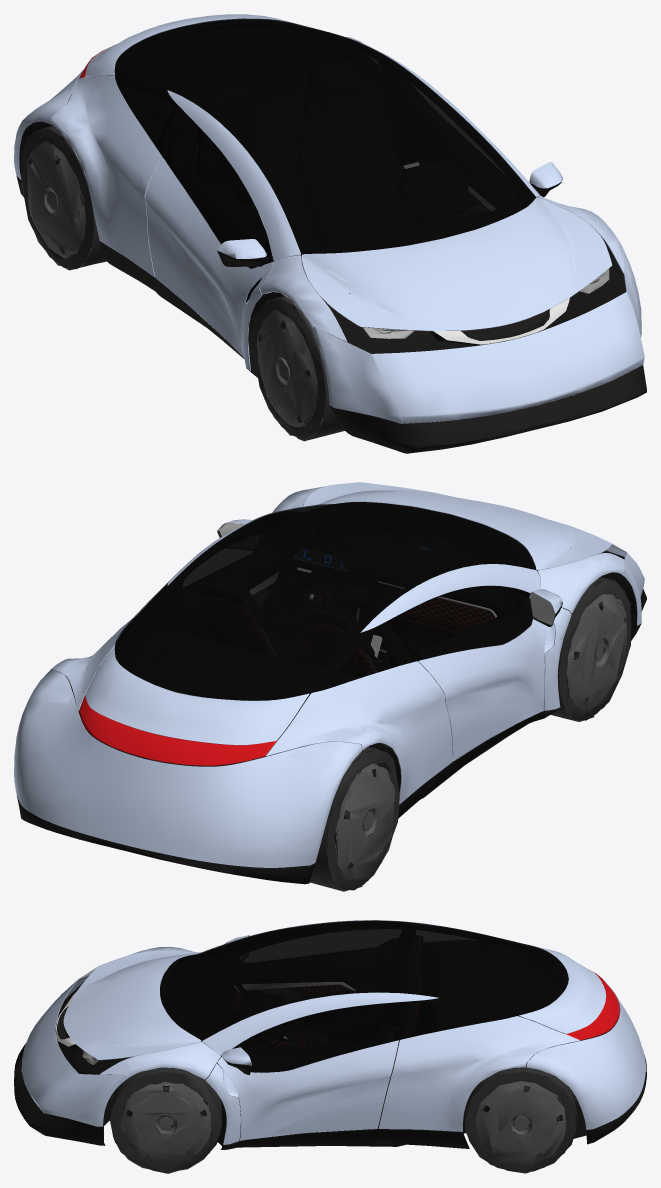
The model's file is traffic-coupe.glb.
3 renders of one model, top to bottom at view 1: azimuth 30°, elevation 25°; view 2: azimuth 150°, elevation 25°; view 3: azimuth 270°, elevation 25°, orthographic. The views are drawn at different scales.
Visible parts, largest first — view 1: Body, wheel-front-right-mesh, wheel-rear-right-mesh; view 2: Body, wheel-rear-right-mesh, wheel-front-right-mesh; view 3: Body, wheel-front-left-mesh, wheel-rear-left-mesh.
Boxes of the visible parts, box(x1,y1,x2,y2) form: Body: box(14, 14, 646, 453); wheel-front-right-mesh: box(253, 295, 344, 441); wheel-rear-right-mesh: box(21, 125, 107, 270); Body: box(14, 482, 646, 884); wheel-rear-right-mesh: box(310, 746, 399, 891); wheel-front-right-mesh: box(550, 576, 631, 721); Body: box(14, 920, 646, 1149); wheel-front-left-mesh: box(109, 1067, 221, 1173); wheel-rear-left-mesh: box(465, 1067, 577, 1173).
Bounding box in the file's own units: 1.33 × 0.8131 × 2.8.
16 materials, 1 textured.
